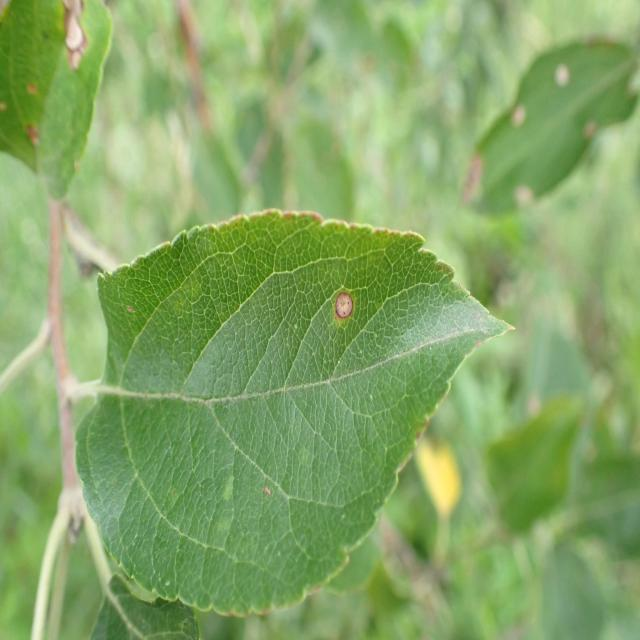Black Rot: (317, 266, 370, 342), (59, 0, 91, 95)
